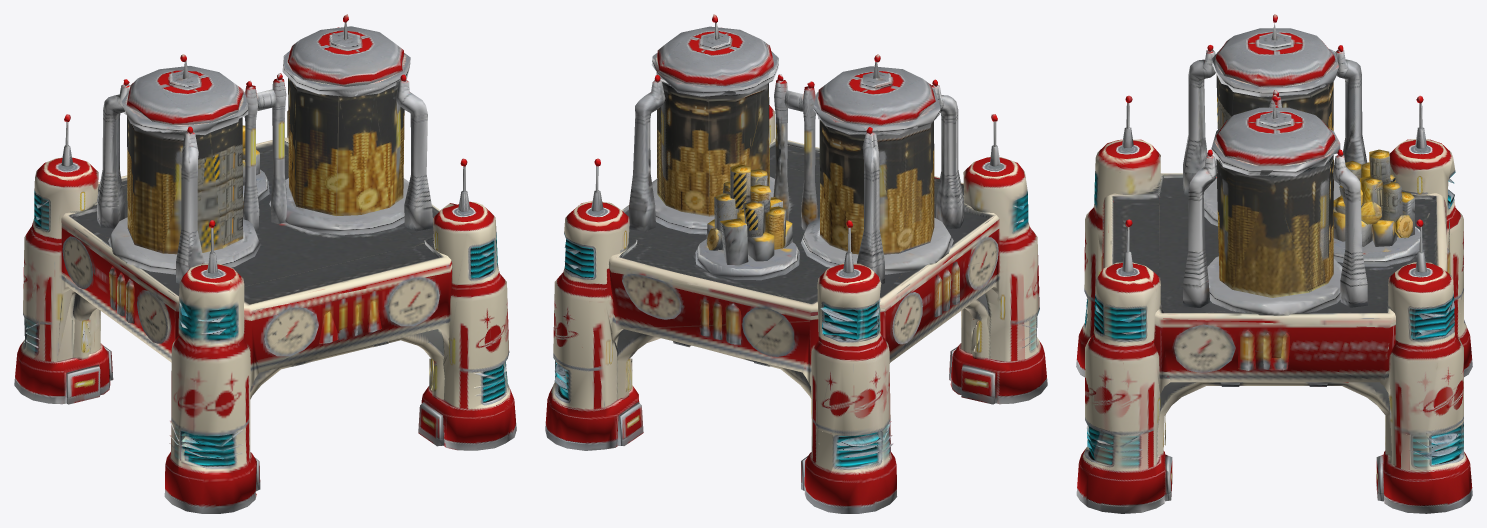
Rendered from sale_depot.fbx.
3 views of the same model, side by side, from view 1: azimuth 30°, elevation 25°; view 2: azimuth 150°, elevation 25°; view 3: azimuth 270°, elevation 25° (orthographic).
Parts seen in each view (by area): view 1: Mesh_0; view 2: Mesh_0; view 3: Mesh_0.
Part boxes in pixels (left/top/right/bottom): Mesh_0: left=14, top=14, right=516, bottom=513; Mesh_0: left=545, top=14, right=1047, bottom=513; Mesh_0: left=1076, top=14, right=1472, bottom=513.
Bounding box in the file's own units: 90.04 × 95.07 × 90.77.
Materials: 1 (1 with a texture image).
